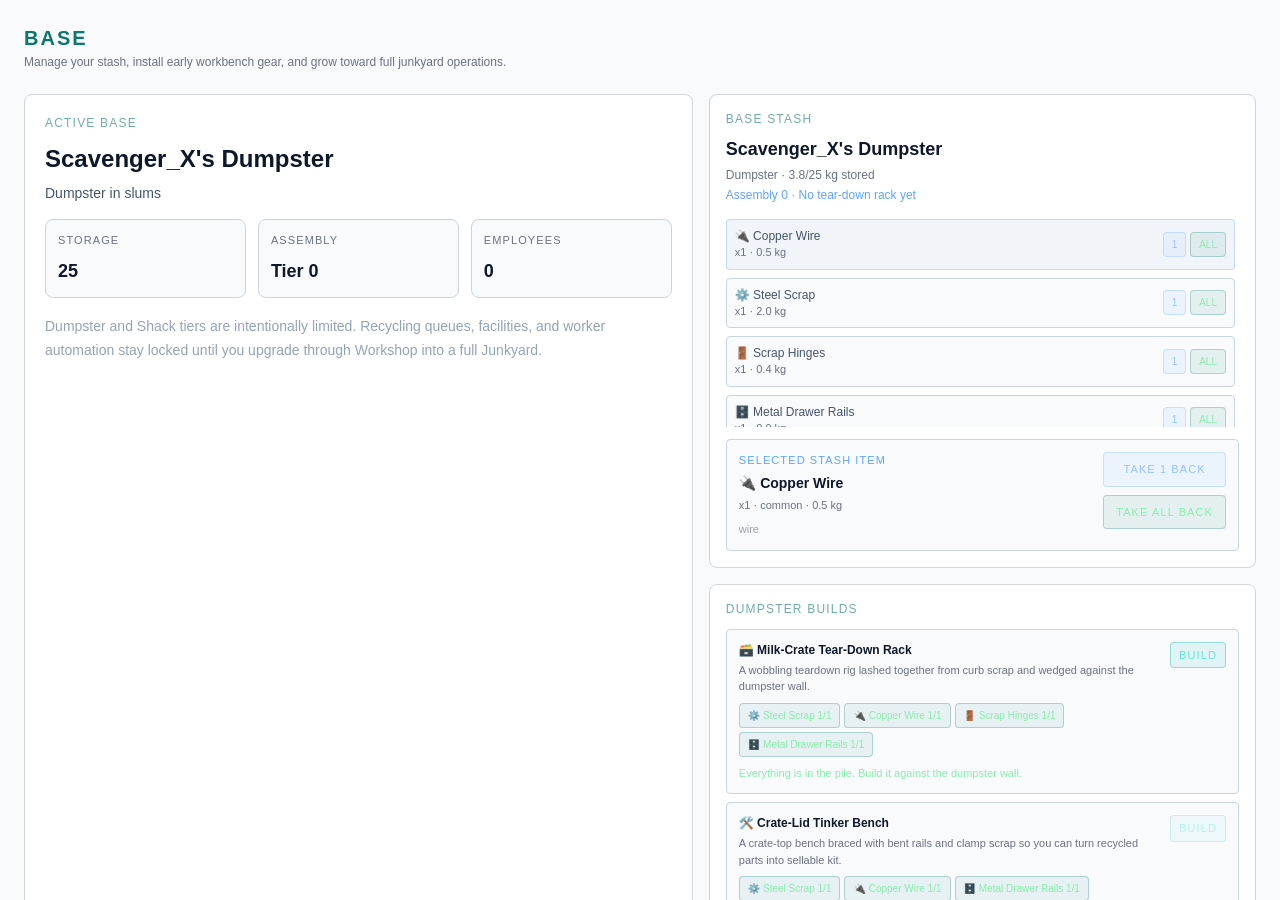
JunkyardPage › renders early base stash and lets the dumpster install the teardown rack
Expected: the heading "Base" is shown, x1=24 y1=27 x2=88 y2=49
Expected: the text "Base Stash" is shown, x1=726 y1=112 x2=812 y2=126
Click the button "Build" in the row of "Milk-Crate Tear-Down Rack": point(1198, 655) x1=1170 y1=642 x2=1226 y2=668
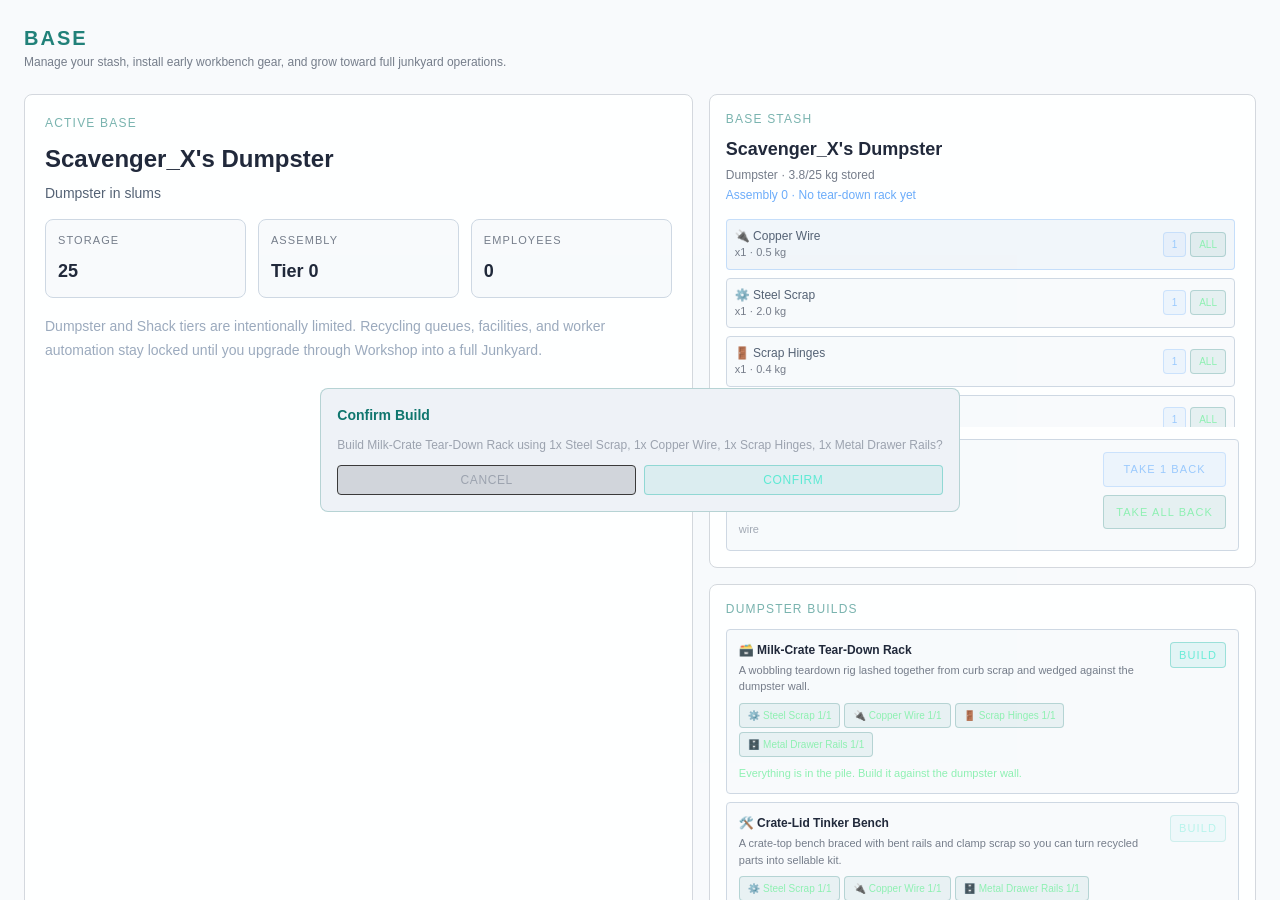
Click the button "Confirm": point(793, 480) x1=644 y1=465 x2=943 y2=495
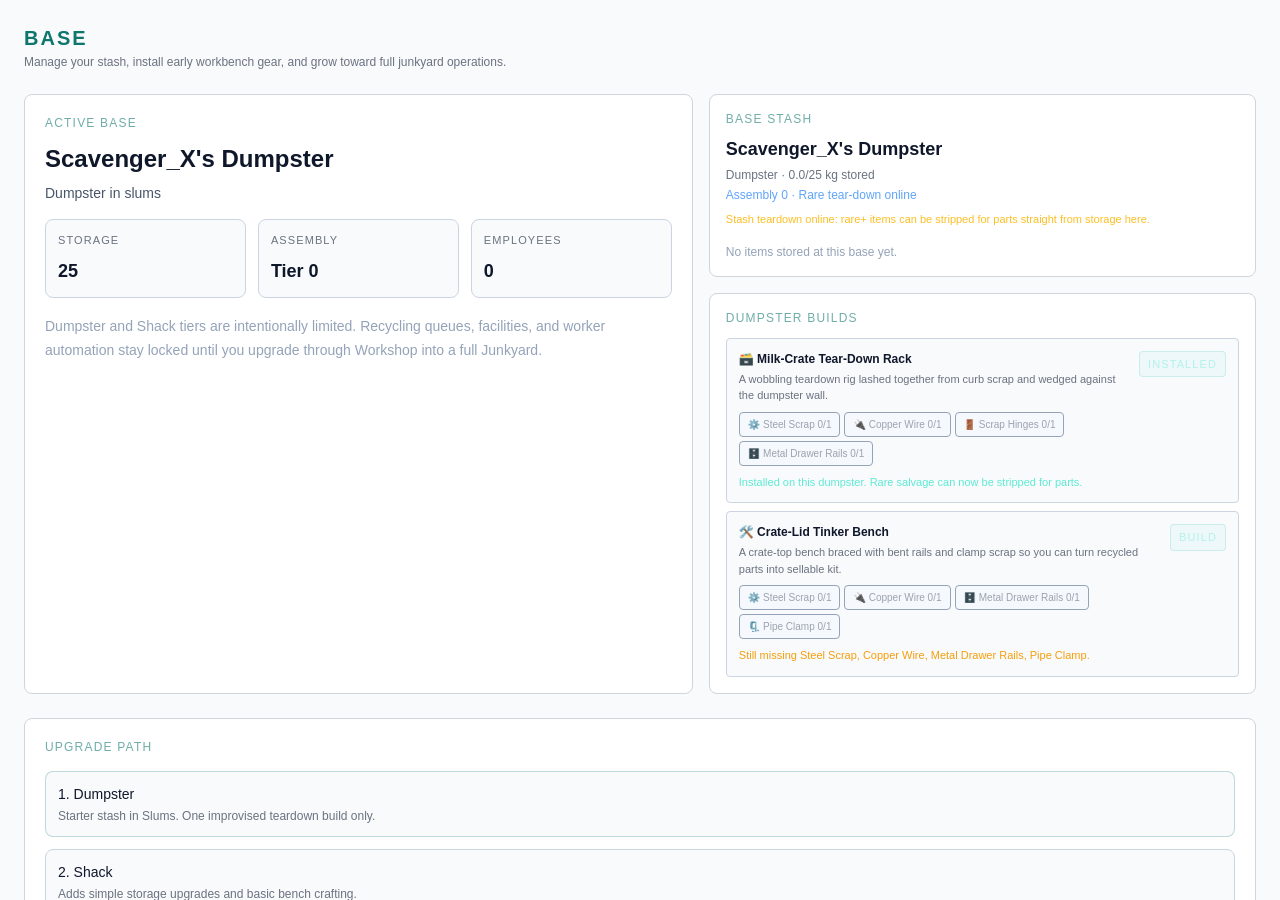
Now the button "Installed" is shown, box x1=1139 y1=350 x2=1226 y2=377
